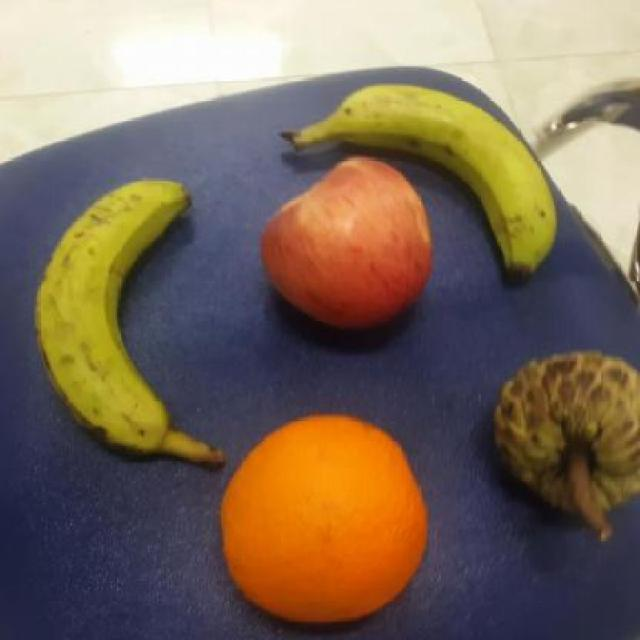apple: (253, 149, 438, 331)
banana: (29, 167, 188, 470), (340, 75, 558, 283)
oren: (221, 410, 425, 628)
sugar apple: (492, 348, 639, 523)
